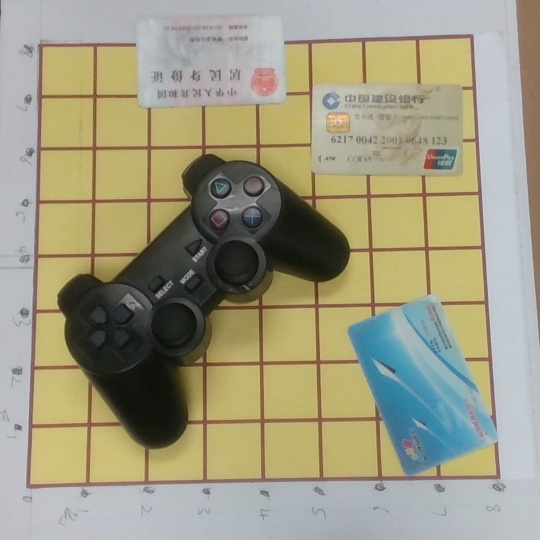card: (346, 293, 500, 476), (310, 82, 466, 179), (134, 11, 289, 108)
remote: (55, 150, 350, 453)
